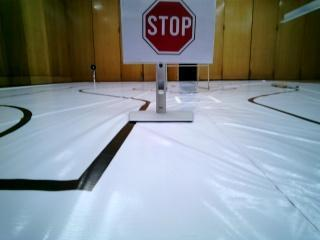stop: (132, 2, 218, 68)
